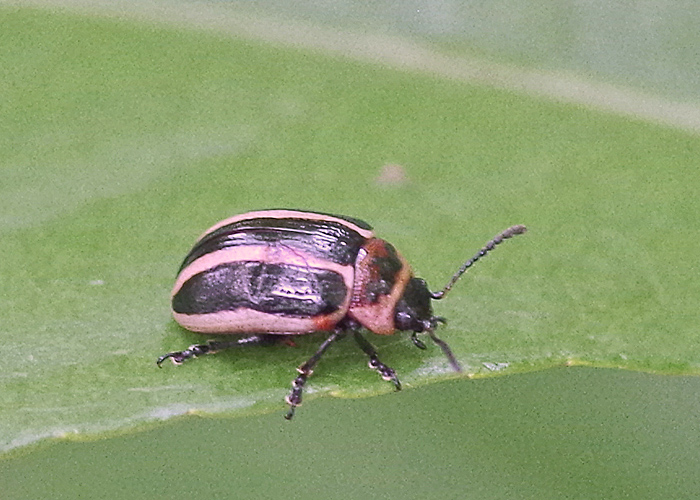Calligrapha beetle: (168, 193, 537, 418)
